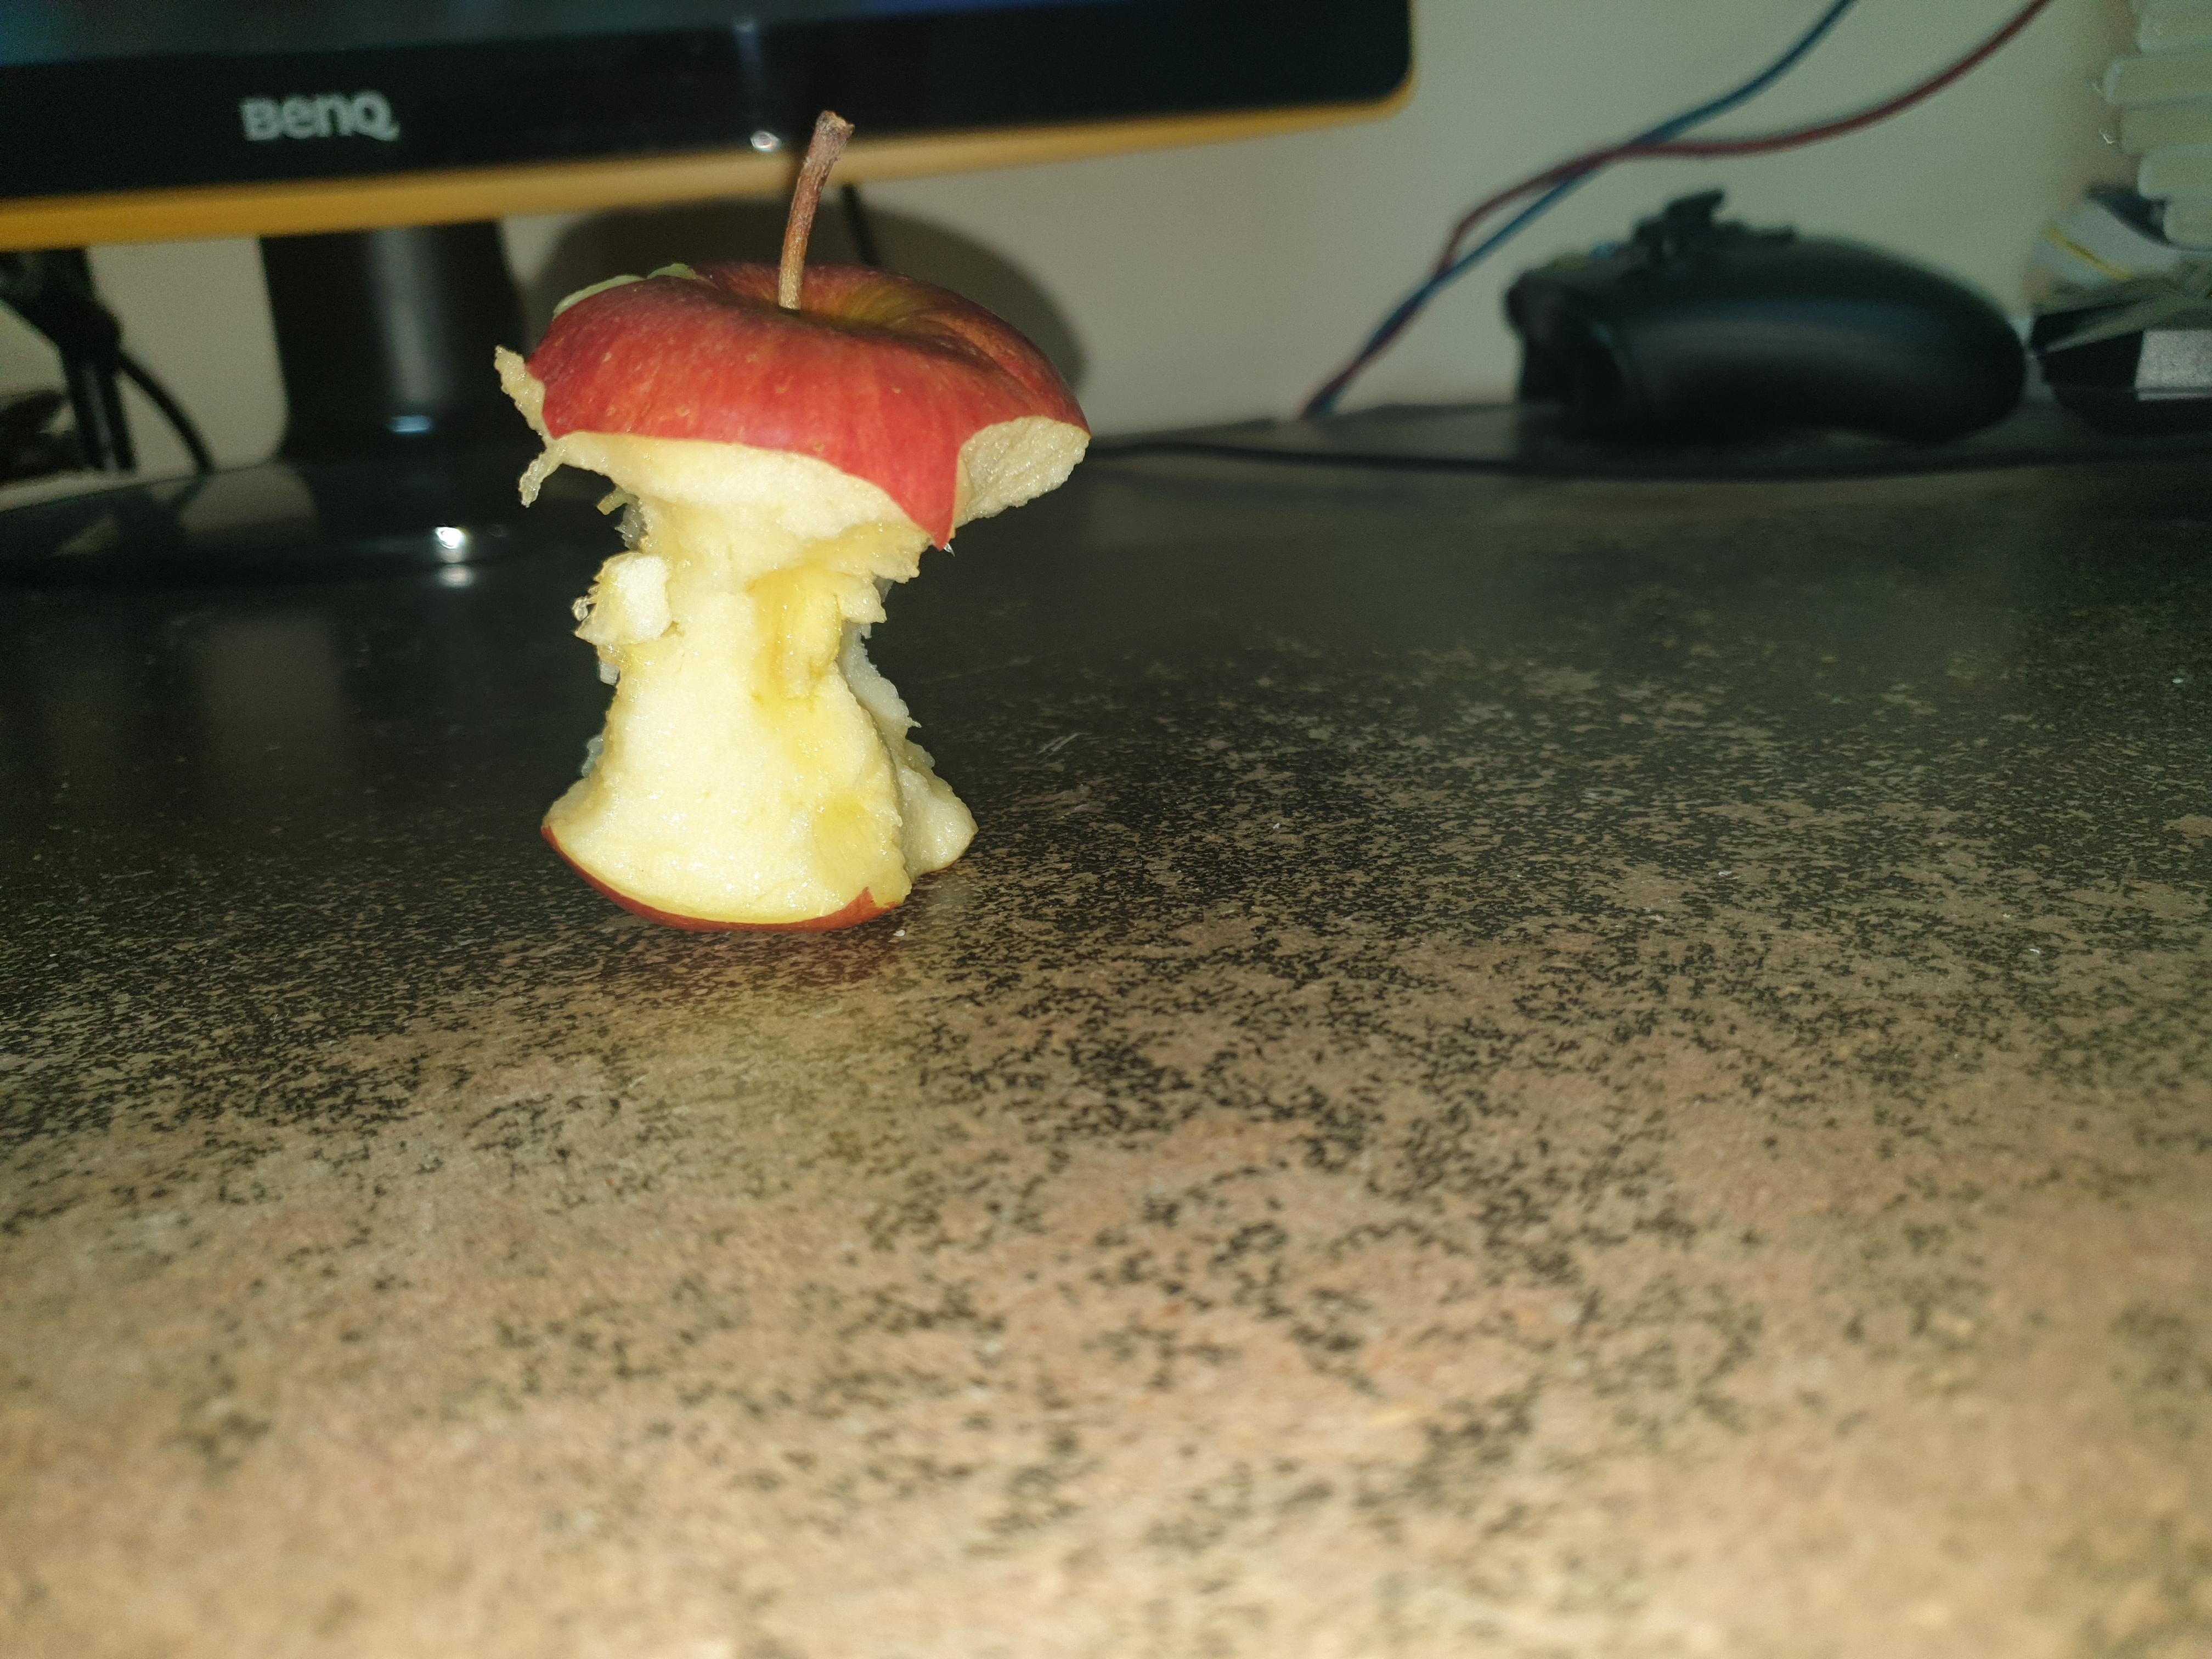Apple: (489, 71, 1109, 983)
